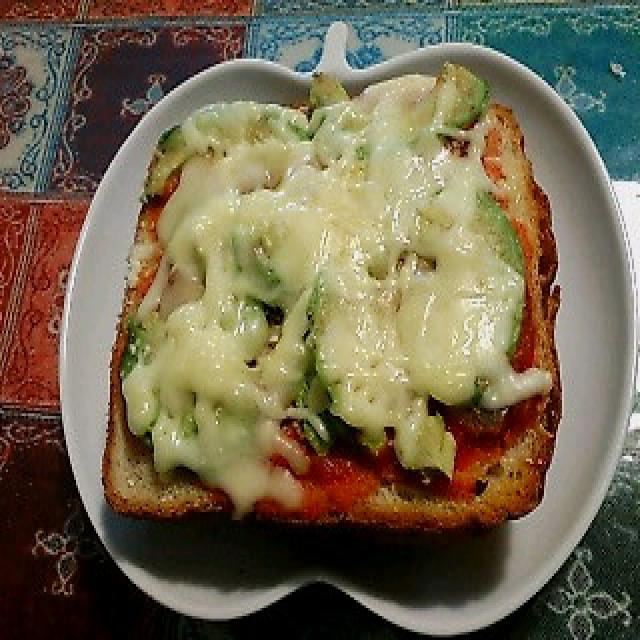面包点心: (44, 45, 602, 587)
